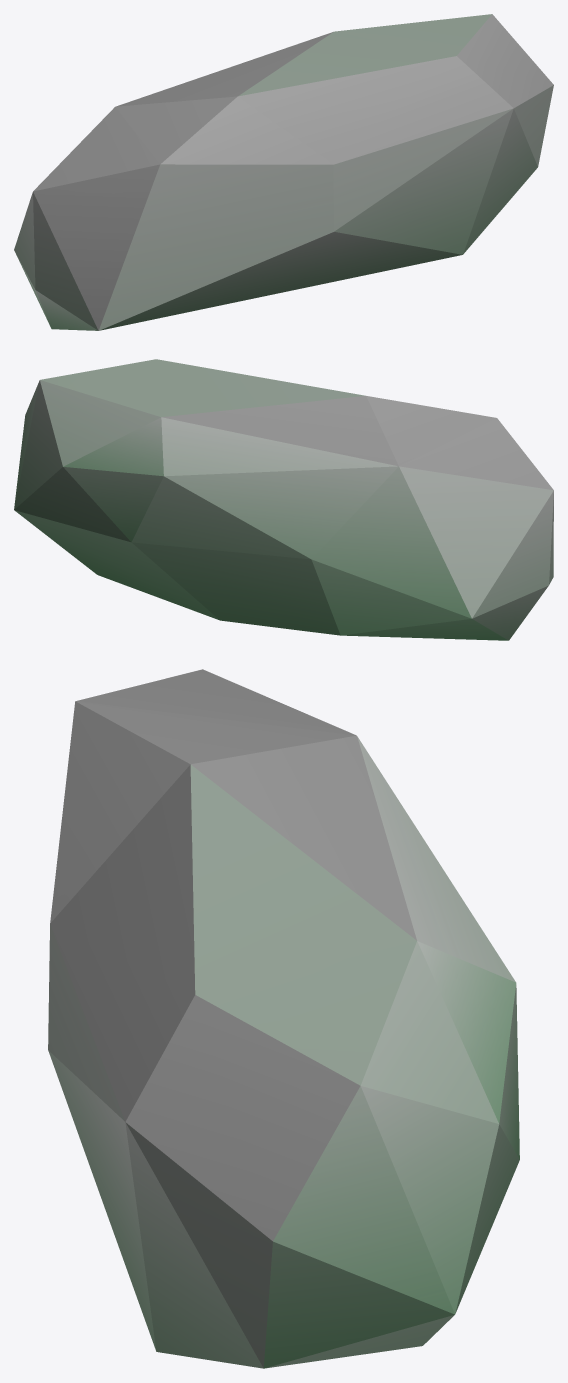
The model's file is rock_big_long_mossy.fbx.
3 renders of one model, top to bottom at view 1: azimuth 30°, elevation 25°; view 2: azimuth 150°, elevation 25°; view 3: azimuth 270°, elevation 25°, orthographic. The views are drawn at different scales.
Parts seen in each view (by area): view 1: rock_big_long_mossy; view 2: rock_big_long_mossy; view 3: rock_big_long_mossy.
Part boxes in pixels (bbox=[...]): rock_big_long_mossy: bbox=[14, 14, 553, 330]; rock_big_long_mossy: bbox=[14, 359, 553, 640]; rock_big_long_mossy: bbox=[48, 669, 519, 1368].
Size of the model in its own units: 4 by 1.45 by 1.6.
Materials: 1 (1 with a texture image).
